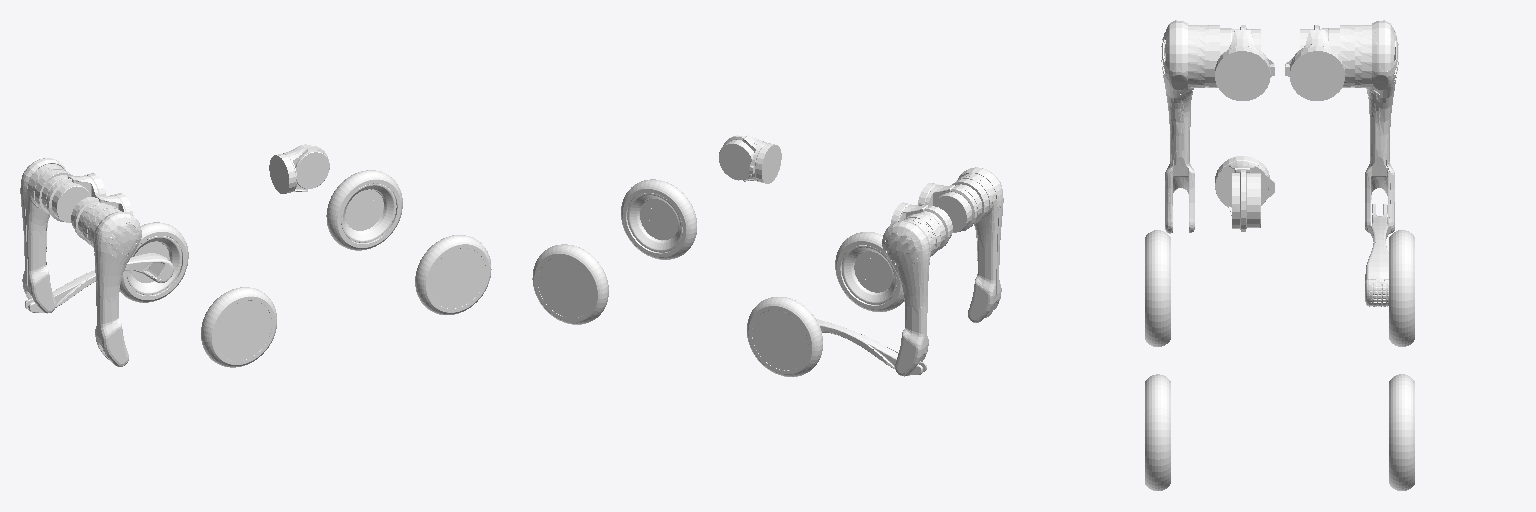
--- What the picture shows (computed from the rendered views, not written in the file) ---
Views: 3 orthographic renders of the robot side by side, from view 1: azimuth 30°, elevation 25°; view 2: azimuth 150°, elevation 25°; view 3: azimuth 270°, elevation 25°.
Robot: b2w_description — 27 links, 26 joints (12 revolute, 4 continuous, 10 fixed); root link base; default pose: joints at zero except 4 at the middle of their limits (FL_calf_joint = -1.62, FR_calf_joint = -1.62, RL_calf_joint = -1.62, RR_calf_joint = -1.62).
Visible links, largest first — view 1: RR_thigh, RR_foot, FL_foot, FR_foot, RL_thigh, RL_foot, FR_hip, RL_calf, RL_hip, RR_hip; view 2: RL_thigh, FL_foot, FR_foot, RL_foot, RR_thigh, RR_foot, FR_hip, RR_hip, RL_calf, RL_hip; view 3: RR_thigh, RL_thigh, FR_hip, RR_hip, RL_hip, RL_foot, RR_foot, FL_foot, FR_foot, RL_calf.
Link boxes in pixels (x1,y1,x2,y2): RR_thigh: (81, 204, 141, 366); RR_foot: (201, 287, 276, 367); FL_foot: (326, 170, 402, 250); FR_foot: (415, 235, 491, 314); RL_thigh: (20, 158, 72, 313); RL_foot: (120, 222, 188, 302); FR_hip: (269, 144, 329, 193); RL_calf: (25, 253, 173, 312); RL_hip: (46, 173, 105, 222); RR_hip: (71, 193, 133, 240); RL_thigh: (882, 213, 942, 376); FL_foot: (532, 244, 608, 324); FR_foot: (621, 179, 696, 259); RL_foot: (747, 297, 822, 376); RR_thigh: (952, 167, 1003, 322); RR_foot: (835, 232, 903, 311); FR_hip: (719, 135, 781, 183); RR_hip: (918, 183, 977, 232); RL_calf: (816, 319, 926, 375); RL_hip: (890, 202, 952, 249); RR_thigh: (1161, 20, 1231, 233); RL_thigh: (1328, 20, 1398, 233); FR_hip: (1215, 156, 1274, 231); RR_hip: (1215, 25, 1274, 100); RL_hip: (1285, 25, 1344, 100); RL_foot: (1389, 230, 1414, 346); RR_foot: (1145, 230, 1170, 346); FL_foot: (1389, 374, 1414, 490); FR_foot: (1145, 374, 1170, 490); RL_calf: (1365, 204, 1390, 306).
Bounding box of the posed robot: 1.19 × 0.5201 × 0.5124 m (x, y, z).
10 mesh visuals loaded from 17 distinct referenced files (10 Collada DAE); not drawn: 7 (reference not matched to a file when rendering).

The robot description file, URDF, robot "b2w_description":
<?xml version="1.0" encoding="utf-8"?>
<!-- This URDF was automatically created by SolidWorks to URDF Exporter! Originally created by Stephen Brawner ([email redacted])
     Commit Version: 1.6.0-4-g7f85cfe  Build Version: 1.6.7995.38578
     For more information, please see http://wiki.ros.org/sw_urdf_exporter -->
<robot name="b2w_description">
<material name="black">
    <color rgba="0.0 0.0 0.0 1.0"/>
  </material>
  <material name="blue">
    <color rgba="0.0 0.0 0.8 1.0"/>
  </material>
  <material name="green">
    <color rgba="0.0 0.8 0.0 1.0"/>
  </material>
  <material name="grey">
    <color rgba="0.2 0.2 0.2 1.0"/>
  </material>
  <material name="silver">
    <color rgba="0.913725490196 0.913725490196 0.847058823529 1.0"/>
  </material>
  <material name="orange">
    <color rgba="1.0 0.423529411765 0.0392156862745 1.0"/>
  </material>
  <material name="brown">
    <color rgba="0.870588235294 0.811764705882 0.764705882353 1.0"/>
  </material>
  <material name="red">
    <color rgba="0.8 0.0 0.0 1.0"/>
  </material>
  <material name="white">
    <color rgba="1.0 1.0 1.0 1.0"/>
  </material>
  <!-- ros_control plugin -->
  <gazebo>
    <plugin filename="libgazebo_ros_control.so" name="gazebo_ros_control">
      <robotNamespace>/b2w_gazebo</robotNamespace>
      <robotSimType>gazebo_ros_control/DefaultRobotHWSim</robotSimType>
    </plugin>
  </gazebo>
  <!-- Show the trajectory of trunk center. -->
  <!-- <gazebo>
    <plugin filename="libLinkPlot3DPlugin.so" name="3dplotTrunk">
      <frequency>10</frequency>
      <plot>
        <link>base</link>
        <pose>0 0 0 0 0 0</pose>
        <material>Gazebo/Yellow</material>
      </plot>
    </plugin>
  </gazebo> -->
  <!-- Show the trajectory of foot. You can add another trajectory about another foot. -->
  <!-- <gazebo>
    <plugin filename="libLinkPlot3DPlugin.so" name="3dplot">
      <frequency>1000</frequency>
      <plot>
        <link>FR_calf</link>
        <pose>0 0 -0.2 0 0 0</pose>
        <material>Gazebo/Yellow</material>
      </plot>
    </plugin>
  </gazebo> -->
  <gazebo>
    <plugin filename="libgazebo_ros_force.so" name="gazebo_ros_force">
      <bodyName>trunk</bodyName>
      <topicName>/apply_force/trunk</topicName>
    </plugin>
  </gazebo>
  <gazebo reference="imu_link">
    <gravity>true</gravity>
    <sensor name="imu_sensor" type="imu">
      <always_on>true</always_on>
      <update_rate>1000</update_rate>
      <visualize>true</visualize>
      <topic>__default_topic__</topic>
      <plugin filename="libgazebo_ros_imu_sensor.so" name="imu_plugin">
        <topicName>trunk_imu</topicName>
        <bodyName>imu_link</bodyName>
        <updateRateHZ>1000.0</updateRateHZ>
        <gaussianNoise>0.0</gaussianNoise>
        <xyzOffset>0 0 0</xyzOffset>
        <rpyOffset>0 0 0</rpyOffset>
        <frameName>imu_link</frameName>
      </plugin>
      <pose>0 0 0 0 0 0</pose>
    </sensor>
  </gazebo>

  <gazebo reference="base">
    <material>Gazebo/Green</material>
    <turnGravityOff>false</turnGravityOff>
  </gazebo>
  <gazebo reference="trunk">
    <mu1>0.2</mu1>
    <mu2>0.2</mu2>
    <kp value="1000000.0"/>
    <kd value="1.0"/>
  </gazebo>
  <gazebo reference="imu_link">
    <mu1>0.2</mu1>
    <mu2>0.2</mu2>
    <material>Gazebo/Red</material>
  </gazebo>
  <!-- FL leg -->
  <gazebo reference="FL_hip">
    <mu1>0.2</mu1>
    <mu2>0.2</mu2>
    <material>Gazebo/DarkGrey</material>
  </gazebo>
  <gazebo reference="FL_thigh">
    <mu1>0.2</mu1>
    <mu2>0.2</mu2>
    <self_collide>1</self_collide>
    <material>Gazebo/DarkGrey</material>
    <kp value="1000000.0"/>
    <kd value="1.0"/>
  </gazebo>
  <gazebo reference="FL_calf">
    <mu1>0.2</mu1>
    <mu2>0.2</mu2>
    <self_collide>1</self_collide>
  </gazebo>
  <gazebo reference="FL_foot">
    <mu1>0.6</mu1>
    <mu2>0.6</mu2>
    <self_collide>1</self_collide>
    <material>Gazebo/DarkGrey</material>
    <kp value="1000000.0"/>
    <kd value="1.0"/>
  </gazebo>
  <!-- FR leg -->
  <gazebo reference="FR_hip">
    <mu1>0.2</mu1>
    <mu2>0.2</mu2>
    <material>Gazebo/DarkGrey</material>
  </gazebo>
  <gazebo reference="FR_thigh">
    <mu1>0.2</mu1>
    <mu2>0.2</mu2>
    <self_collide>1</self_collide>
    <material>Gazebo/DarkGrey</material>
    <kp value="1000000.0"/>
    <kd value="1.0"/>
  </gazebo>
  <gazebo reference="FR_calf">
    <mu1>0.2</mu1>
    <mu2>0.2</mu2>
    <self_collide>1</self_collide>
  </gazebo>
  <gazebo reference="FR_foot">
    <mu1>0.6</mu1>
    <mu2>0.6</mu2>
    <self_collide>1</self_collide>
    <material>Gazebo/DarkGrey</material>
    <kp value="1000000.0"/>
    <kd value="1.0"/>
  </gazebo>
  <!-- RL leg -->
  <gazebo reference="RL_hip">
    <mu1>0.2</mu1>
    <mu2>0.2</mu2>
    <material>Gazebo/DarkGrey</material>
  </gazebo>
  <gazebo reference="RL_thigh">
    <mu1>0.2</mu1>
    <mu2>0.2</mu2>
    <self_collide>1</self_collide>
    <material>Gazebo/DarkGrey</material>
    <kp value="1000000.0"/>
    <kd value="1.0"/>
  </gazebo>
  <gazebo reference="RL_calf">
    <mu1>0.2</mu1>
    <mu2>0.2</mu2>
    <self_collide>1</self_collide>
  </gazebo>
  <gazebo reference="RL_foot">
    <mu1>0.6</mu1>
    <mu2>0.6</mu2>
    <self_collide>1</self_collide>
    <material>Gazebo/DarkGrey</material>
    <kp value="1000000.0"/>
    <kd value="1.0"/>
  </gazebo>
  <!-- RR leg -->
  <gazebo reference="RR_hip">
    <mu1>0.2</mu1>
    <mu2>0.2</mu2>
    <material>Gazebo/DarkGrey</material>
  </gazebo>
  <gazebo reference="RR_thigh">
    <mu1>0.2</mu1>
    <mu2>0.2</mu2>
    <self_collide>1</self_collide>
    <material>Gazebo/DarkGrey</material>
    <kp value="1000000.0"/>
    <kd value="1.0"/>
  </gazebo>
  <gazebo reference="RR_calf">
    <mu1>0.2</mu1>
    <mu2>0.2</mu2>
    <self_collide>1</self_collide>
  </gazebo>
  <gazebo reference="RR_foot">
    <mu1>0.6</mu1>
    <mu2>0.6</mu2>
    <self_collide>1</self_collide>
    <material>Gazebo/DarkGrey</material>
    <kp value="1000000.0"/>
    <kd value="1.0"/>
  </gazebo>
  <link name="base">
    <visual>
      <origin rpy="0 0 0" xyz="0 0 0"/>
      <geometry>
        <box size="0.001 0.001 0.001"/>
      </geometry>
    </visual>
  </link>
  <joint name="floating_base" type="fixed">
    <origin rpy="0 0 0" xyz="0 0 0"/>
    <parent link="base"/>
    <child link="trunk"/>
  </joint>
  <link name="trunk">
    <inertial>
      <origin xyz="0.000458 0.005261 0.000665" rpy="0 0 0" />
      <mass value="35.606" />
      <inertia ixx="0.27466" ixy="-0.000622" ixz="0.00315" iyy="1.0618" iyz="-0.00139" izz="1.1825" />
    </inertial>
    <visual>
      <origin xyz="0 0 0" rpy="0 0 0" />
      <geometry>
        <mesh filename="package://b2w_description/meshes/base_link.dae" />
      </geometry>
      <material name="">
        <color rgba="1 1 1 1" />
      </material>
    </visual>
    <collision>
      <origin xyz="0 0 0" rpy="0 0 0" />
      <geometry>
        <box size="0.5 0.28 0.15" />
      </geometry>
    </collision>
  </link>
  <link name="lidar_link">
    <inertial>
      <origin xyz="0.34218 0 0.17851" rpy="0 0 0" />
      <mass value="4.19E-15" />
      <inertia ixx="1.68E-27" ixy="-3.2E-45" ixz="7.68E-44" iyy="1.68E-27" iyz="-9.26E-47" izz="1.68E-27" />
    </inertial>
    <collision>
      <origin xyz="0 0 -0.02" rpy="0 0 0" />
      <geometry>
        <cylinder length="0.16" radius="0.076" />
        <!-- <mesh filename="package://b2_description/meshes/lidar_link.STL" /> -->
      </geometry>
    </collision>
  </link>
  <joint name="joint_lidar" type="fixed">
    <origin xyz="0.34218 0 0.17851" rpy="0 0 0" />
    <parent link="trunk" />
    <child link="lidar_link" />
    <axis xyz="0 0 0" />
  </joint>
  <link name="f_dc_link">
    <inertial>
      <origin xyz="3.47E-18 0 5.55E-17" rpy="0 0 0" />
      <mass value="4.19E-15" />
      <inertia ixx="1.68E-27" ixy="-9.81E-45" ixz="-2.54E-44" iyy="1.68E-27" iyz="0" izz="1.68E-27" />
    </inertial>
  </link>
  <joint name="joint_f_dc" type="fixed">
    <origin xyz="0.42161 0.025 0.061851" rpy="-2.3562 0 -1.5708" />
    <parent link="trunk" />
    <child link="f_dc_link" />
    <axis xyz="0 0 0" />
  </joint>
  <link name="r_dc_link">
    <inertial>
      <origin xyz="-7.46E-16 -3.33E-16 -1.11E-15" rpy="0 0 0" />
      <mass value="4.19E-15" />
      <inertia ixx="1.68E-27" ixy="-4.31E-44" ixz="2.48E-45" iyy="1.68E-27" iyz="0" izz="1.68E-27" />
    </inertial>
  </link>
  <joint name="joint_r_dc" type="fixed">
    <origin xyz="-0.42244 -0.025 0.038026" rpy="-2.3562 0 1.5708" />
    <parent link="trunk" />
    <child link="r_dc_link" />
    <axis xyz="0 0 0" />
  </joint>
  <link name="imu_link">
    <inertial>
      <origin xyz="-2.02E-17 1.73E-17 -1.39E-17" rpy="0 0 0" />
      <mass value="4.19E-15" />
      <inertia ixx="1.68E-27" ixy="1.84E-44" ixz="-7.35E-44" iyy="1.68E-27" iyz="-3.67E-44" izz="1.68E-27" />
    </inertial>
  </link>
  <joint name="joint_imu" type="fixed">
    <origin xyz="0 -0.02341 0.04927" rpy="0 0 0" />
    <parent link="trunk" />
    <child link="imu_link" />
    <axis xyz="0 0 0" />
  </joint>
  <link name="head_Link">
    <inertial>
      <origin xyz="0.33989 -0.000168 0.12029" rpy="0 0 0" />
      <mass value="3.6885" />
      <inertia ixx="0.026455" ixy="3.15E-05" ixz="0.00166" iyy="0.029221" iyz="-3.27E-05" izz="0.010918" />
    </inertial>
    <collision>
      <origin xyz="0.41 0 0.005" rpy="0 0 0" />
      <geometry>
        <box size="0.04 0.12 0.14" />
      </geometry>
    </collision>
  </link>
  <joint name="joint_head" type="fixed">
    <origin xyz="0 0 0" rpy="0 0 0" />
    <parent link="trunk" />
    <child link="head_Link" />
    <axis xyz="0 0 0" />
  </joint>
  <link name="tail_link">
    <inertial>
      <origin xyz="-0.37448 0.000488 0.006495" rpy="0 0 0" />
      <mass value="0.795" />
      <inertia ixx="0.0028118" ixy="1.95E-05" ixz="-7.87E-06" iyy="0.0047506" iyz="-1.57E-05" izz="0.0029154" />
    </inertial>
    <collision>
      <origin xyz="-0.405 0 0.005" rpy="0 0 0" />
      <geometry>
        <box size="0.025 0.12 0.14" />
      </geometry>
    </collision>
  </link>
  <joint name="joint_tail" type="fixed">
    <origin xyz="0 0 0" rpy="0 0 0" />
    <parent link="trunk" />
    <child link="tail_link" />
    <axis xyz="0 0 0" />
  </joint>
  <link name="FL_hip">
    <inertial>
      <origin xyz="-0.003841 -0.009068 0" rpy="0 0 0" />
      <mass value="2.673" />
      <inertia ixx="0.0033188" ixy="7.16E-05" ixz="-3.77E-07" iyy="0.0048743" iyz="4E-09" izz="0.0037087" />
    </inertial>
    <visual>
      <origin xyz="0 0 0" rpy="0 0 0" />
      <geometry>
        <mesh filename="package://b2w_description/meshes/FL_hip.dae" />
      </geometry>
      <material name="">
        <color rgba="1 1 1 1" />
      </material>
    </visual>
    <collision>
      <origin xyz="0 0.12 0" rpy="1.5707963267948966 0 0" />
      <geometry>
        <cylinder length="0.05" radius="0.07" />
      </geometry>
    </collision>
  </link>
  <joint name="FL_hip_joint" type="revolute">
    <origin xyz="0.3285 0.072 0" rpy="0 0 0" />
    <parent link="trunk" />
    <child link="FL_hip" />
    <axis xyz="1 0 0" />
    <limit lower="-0.87" upper="0.87" effort="200" velocity="23" />
  </joint>
  <link name="FL_thigh">
    <inertial>
      <origin xyz="-0.006279 -0.032049 -0.057835" rpy="0 0 0" />
      <mass value="4.536" />
      <inertia ixx="0.062299" ixy="0.00087781" ixz="-0.0036475" iyy="0.061399" iyz="0.0083537" izz="0.0081997" />
    </inertial>
    <visual>
      <origin xyz="0 0 0" rpy="0 0 0" />
      <geometry>
        <mesh filename="package://b2w_description/meshes/FL_thigh.dae" />
      </geometry>
      <material name="">
        <color rgba="1 1 1 1" />
      </material>
    </visual>
    <collision>
      <origin xyz="-0.025 0 -0.16" rpy="0 1.57 0" />
      <geometry>
        <box size="0.32 0.0445 0.054" />
      </geometry>
    </collision>
  </link>
  <joint name="FL_thigh_joint" type="revolute">
    <origin xyz="0 0.11973 0" rpy="0 0 0" />
    <parent link="FL_hip" />
    <child link="FL_thigh" />
    <axis xyz="0 1 0" />
    <limit lower="-0.94" upper="4.69" effort="200" velocity="23" />
  </joint>
  <link name="FL_calf">
    <inertial>
      <origin xyz="0.005278 0.017301 -0.29778" rpy="0 0 0" />
      <mass value="2.2906" />
      <inertia ixx="0.029283" ixy="0.000221" ixz="-0.001064" iyy="0.030868" iyz="0.002093" izz="0.00326" />
    </inertial>
    <visual>
      <origin xyz="0 0 0" rpy="0 0 0" />
      <geometry>
        <mesh filename="package://b2w_description/meshes/FL_calf.dae" />
      </geometry>
      <material name="">
        <color rgba="1 1 1 1" />
      </material>
    </visual>
    <collision>
      <origin xyz="0 0 0" rpy="0 0 0" />
      <geometry>
        <mesh filename="package://b2w_description/meshes/FL_calf.dae" />
      </geometry>
    </collision>
  </link>
  <joint name="FL_calf_joint" type="revolute">
    <origin xyz="0 -8.8203E-05 -0.35" rpy="0 0 0" />
    <parent link="FL_thigh" />
    <child link="FL_calf" />
    <axis xyz="0 1 0" />
    <limit lower="-2.82" upper="-0.43" effort="320" velocity="14" />
  </joint>
  <link name="FL_foot">
    <inertial>
      <origin xyz="-0.000991 0.051053 -0.00113" rpy="0 0 0" />
      <mass value="1.083" />
      <inertia ixx="0.004121" ixy="6E-06" ixz="-4.8E-05" iyy="0.007776" iyz="7E-06" izz="0.004108" />
    </inertial>
    <visual>
      <origin xyz="0 0 0" rpy="0 0 0" />
      <geometry>
        <mesh filename="package://b2w_description/meshes/FL_foot.dae" />
      </geometry>
      <material name="">
        <color rgba="1 1 1 1" />
      </material>
    </visual>
    <collision>
      <origin xyz="0 0 0" rpy="0 0 0" />
      <geometry>
        <mesh filename="package://b2w_description/meshes/FL_foot.dae" />
      </geometry>
    </collision>
  </link>
  <joint name="FL_foot_joint" type="continuous">
    <origin xyz="0 0 -0.35" rpy="0 0 0" />
    <parent link="FL_calf" />
    <child link="FL_foot" />
    <axis xyz="0 1 0" />
    <limit effort="20" velocity="50" />
  </joint>
  <link name="FR_hip">
    <inertial>
      <origin xyz="-0.003841 0.009068 0" rpy="0 0 0" />
      <mass value="2.673" />
      <inertia ixx="0.003318772" ixy="-7.16E-05" ixz="-3.77E-07" iyy="0.004874327" iyz="-4E-09" izz="0.003708731" />
    </inertial>
    <visual>
      <origin xyz="0 0 0" rpy="0 0 0" />
      <geometry>
        <mesh filename="package://b2w_description/meshes/FR_hip.dae" />
      </geometry>
      <material name="">
        <color rgba="1 1 1 1" />
      </material>
    </visual>
    <collision>
      <origin xyz="0 -0.12 0" rpy="1.5707963267948966 0 0" />
      <geometry>
        <cylinder length="0.05" radius="0.07" />
      </geometry>
    </collision>
  </link>
  <joint name="FR_hip_joint" type="revolute">
    <origin xyz="0.3285 -0.072 0" rpy="0 0 0" />
    <parent link="trunk" />
    <child link="FR_hip" />
    <axis xyz="1 0 0" />
    <limit lower="-0.87" upper="0.87" effort="200" velocity="23" />
  </joint>
  <link name="FR_thigh">
    <inertial>
      <origin xyz="-0.006279 0.032049 -0.057835" rpy="0 0 0" />
      <mass value="4.536" />
      <inertia ixx="0.06229908" ixy="-0.000877808" ixz="-0.003647464" iyy="0.06139927" iyz="-0.008353671" izz="0.008199745" />
    </inertial>
    <visual>
      <origin xyz="0 0 0" rpy="0 0 0" />
      <geometry>
        <mesh filename="package://b2w_description/meshes/FR_thigh.dae" />
      </geometry>
      <material name="">
        <color rgba="1 1 1 1" />
      </material>
    </visual>
    <collision>
      <origin rpy="0 1.57 0" xyz="-0.03 0 -0.2"/>
      <geometry>
        <box size="0.25 0.028 0.04"/>
      </geometry>
    </collision>
  </link>
  <joint name="FR_thigh_joint" type="revolute">
    <origin xyz="0 -0.11973 0" rpy="0 0 0" />
    <parent link="FR_hip" />
    <child link="FR_thigh" />
    <axis xyz="0 1 0" />
    <limit lower="-0.94" upper="4.69" effort="200" velocity="23" />
  </joint>
  <link name="FR_calf">
    <inertial>
      <origin xyz="0.005278 -0.017301 -0.297775" rpy="0 0 0" />
      <mass value="2.290557" />
      <inertia ixx="0.029283" ixy="-0.000221" ixz="-0.001064" iyy="0.030868" iyz="-0.002093" izz="0.00326" />
    </inertial>
    <visual>
      <origin xyz="0 0 0" rpy="0 0 0" />
      <geometry>
        <mesh filename="package://b2w_description/meshes/FR_calf.dae" />
      </geometry>
      <material name="">
        <color rgba="1 1 1 1" />
      </material>
    </visual>
    <collision>
      <origin xyz="0 0 0" rpy="0 0 0" />
      <geometry>
        <mesh filename="package://b2w_description/meshes/FR_calf.dae" />
      </geometry>
    </collision>
  </link>
  <joint name="FR_calf_joint" type="revolute">
    <origin xyz="0 8.8205E-05 -0.35" rpy="0 0 0" />
    <parent link="FR_thigh" />
    <child link="FR_calf" />
    <axis xyz="0 1 0" />
    <limit lower="-2.82" upper="-0.43" effort="320" velocity="14" />
  </joint>
  <link name="FR_foot">
    <inertial>
      <origin xyz="-0.000991 -0.051053 -0.00113" rpy="0 0 0" />
      <mass value="1.083" />
      <inertia ixx="0.004121" ixy="-6E-06" ixz="-4.8E-05" iyy="0.007776" iyz="-7E-06" izz="0.004108" />
    </inertial>
    <visual>
      <origin xyz="0 0 0" rpy="0 0 0" />
      <geometry>
        <mesh filename="package://b2w_description/meshes/FR_foot.dae" />
      </geometry>
      <material name="">
        <color rgba="1 1 1 1" />
      </material>
    </visual>
    <collision>
      <origin xyz="0 0 0" rpy="0 0 0" />
      <geometry>
        <mesh filename="package://b2w_description/meshes/FR_foot.dae" />
      </geometry>
    </collision>
  </link>
  <joint name="FR_foot_joint" type="continuous">
    <origin xyz="0 -0.001 -0.35" rpy="0 0 0" />
    <parent link="FR_calf" />
    <child link="FR_foot" />
    <axis xyz="0 1 0" />
    <limit effort="20" velocity="50" />
  </joint>
  <link name="RL_hip">
    <inertial>
      <origin xyz="0.003841 -0.009068 0" rpy="0 0 0" />
      <mass value="2.673" />
      <inertia ixx="0.0033188" ixy="-7.16E-05" ixz="3.77E-07" iyy="0.0048743" iyz="4E-09" izz="0.0037087" />
    </inertial>
    <visual>
      <origin xyz="0 0 0" rpy="0 0 0" />
      <geometry>
        <mesh filename="package://b2w_description/meshes/RL_hip.dae" />
      </geometry>
      <material name="">
        <color rgba="1 1 1 1" />
      </material>
    </visual>
    <collision>
      <origin xyz="0 0.12 0" rpy="1.5707963267948966 0 0" />
      <geometry>
        <cylinder length="0.05" radius="0.07" />
      </geometry>
    </collision>
  </link>
  <joint name="RL_hip_joint" type="revolute">
    <origin xyz="-0.3285 0.072 0" rpy="0 0 0" />
    <parent link="trunk" />
    <child link="RL_hip" />
    <axis xyz="1 0 0" />
    <limit lower="-0.87" upper="0.87" effort="200" velocity="23" />
  </joint>
  <link name="RL_thigh">
    <inertial>
      <origin xyz="-0.006279 -0.032049 -0.057835" rpy="0 0 0" />
      <mass value="4.536" />
      <inertia ixx="0.06229908" ixy="0.000877808" ixz="-0.003647464" iyy="0.06139927" iyz="0.008353671" izz="0.008199745" />
    </inertial>
    <visual>
      <origin xyz="0 0 0" rpy="0 0 0" />
      <geometry>
        <mesh filename="package://b2w_description/meshes/RL_thigh.dae" />
      </geometry>
      <material name="">
        <color rgba="1 1 1 1" />
      </material>
    </visual>
    <collision>
      <origin rpy="0 1.57 0" xyz="-0.03 0 -0.2"/>
      <geometry>
        <box size="0.25 0.028 0.04"/>
      </geometry>
    </collision>
  </link>
  <joint name="RL_thigh_joint" type="revolute">
    <origin xyz="0 0.11973 0" rpy="0 0 0" />
    <parent link="RL_hip" />
    <child link="RL_thigh" />
    <axis xyz="0 1 0" />
    <limit lower="-0.94" upper="4.69" effort="200" velocity="23" />
  </joint>
  <link name="RL_calf">
    <inertial>
      <origin xyz="0.005278 0.017301 -0.29778" rpy="0 0 0" />
      <mass value="2.2906" />
      <inertia ixx="0.029283" ixy="0.000221" ixz="-0.001064" iyy="0.030868" iyz="0.002093" izz="0.00326" />
    </inertial>
    <visual>
      <origin xyz="0 0 0" rpy="0 0 0" />
      <geometry>
        <mesh filename="package://b2w_description/meshes/RL_calf.dae" />
      </geometry>
      <material name="">
        <color rgba="1 1 1 1" />
      </material>
    </visual>
    <collision>
      <origin xyz="0 0 0" rpy="0 0 0" />
      <geometry>
        <mesh filename="package://b2w_description/meshes/RL_calf.dae" />
      </geometry>
    </collision>
  </link>
  <joint name="RL_calf_joint" type="revolute">
    <origin xyz="0 -8.8205E-05 -0.35" rpy="0 0 0" />
    <parent link="RL_thigh" />
    <child link="RL_calf" />
    <axis xyz="0 1 0" />
    <limit lower="-2.82" upper="-0.43" effort="320" velocity="14" />
  </joint>
  <link name="RL_foot">
    <inertial>
      <origin xyz="-0.000991 0.051053 -0.00113" rpy="0 0 0" />
      <mass value="1.083" />
      <inertia ixx="0.004121" ixy="6E-06" ixz="-4.8E-05" iyy="0.007776" iyz="7E-06" izz="0.004108" />
    </inertial>
    <visual>
      <origin xyz="0 0 0" rpy="0 0 0" />
      <geometry>
        <mesh filename="package://b2w_description/meshes/RL_foot.dae" />
      </geometry>
      <material name="">
        <color rgba="1 1 1 1" />
      </material>
    </visual>
    <collision>
      <origin xyz="0 0 0" rpy="0 0 0" />
      <geometry>
        <mesh filename="package://b2w_description/meshes/RL_foot.dae" />
      </geometry>
    </collision>
  </link>
  <joint name="RL_foot_joint" type="continuous">
    <origin xyz="0 0 -0.35" rpy="0 0 0" />
    <parent link="RL_calf" />
    <child link="RL_foot" />
    <axis xyz="0 1 0" />
    <limit effort="20" velocity="50" />
  </joint>
  <link name="RR_hip">
    <inertial>
      <origin xyz="0.003841 0.009068 0" rpy="0 0 0" />
      <mass value="2.673" />
      <inertia ixx="0.0033188" ixy="7.16E-05" ixz="3.77E-07" iyy="0.0048743" iyz="-4E-09" izz="0.0037087" />
    </inertial>
    <visual>
      <origin xyz="0 0 0" rpy="0 0 0" />
      <geometry>
        <mesh filename="package://b2w_description/meshes/RR_hip.dae" />
      </geometry>
      <material name="">
        <color rgba="1 1 1 1" />
      </material>
    </visual>
    <collision>
      <origin xyz="0 -0.12 0" rpy="1.5707963267948966 0 0" />
      <geometry>
        <cylinder length="0.05" radius="0.07" />
      </geometry>
    </collision>
  </link>
  <joint name="RR_hip_joint" type="revolute">
    <origin xyz="-0.3285 -0.072 0" rpy="0 0 0" />
    <parent link="trunk" />
    <child link="RR_hip" />
    <axis xyz="1 0 0" />
    <limit lower="-0.87" upper="0.87" effort="200" velocity="23" />
  </joint>
  <link name="RR_thigh">
    <inertial>
      <origin xyz="-0.006279 0.032049 -0.057835" rpy="0 0 0" />
      <mass value="4.536" />
      <inertia ixx="0.062299" ixy="-0.00087781" ixz="-0.0036475" iyy="0.061399" iyz="-0.0083537" izz="0.0081997" />
    </inertial>
    <visual>
      <origin xyz="0 0 0" rpy="0 0 0" />
      <geometry>
        <mesh filename="package://b2w_description/meshes/RR_thigh.dae" />
      </geometry>
      <material name="">
        <color rgba="1 1 1 1" />
      </material>
    </visual>
    <collision>
      <origin rpy="0 1.57 0" xyz="-0.03 0 -0.2"/>
      <geometry>
        <box size="0.25 0.028 0.04"/>
      </geometry>
    </collision>
  </link>
  <joint name="RR_thigh_joint" type="revolute">
    <origin xyz="0 -0.11973 0" rpy="0 0 0" />
    <parent link="RR_hip" />
    <child link="RR_thigh" />
    <axis xyz="0 1 0" />
    <limit lower="-0.94" upper="4.69" effort="200" velocity="23" />
  </joint>
  <link name="RR_calf">
    <inertial>
      <origin xyz="0.005278 -0.017301 -0.29778" rpy="0 0 0" />
      <mass value="2.2906" />
      <inertia ixx="0.029283" ixy="-0.000221" ixz="-0.001064" iyy="0.030868" iyz="-0.002093" izz="0.00326" />
    </inertial>
    <visual>
      <origin xyz="0 0 0" rpy="0 0 0" />
      <geometry>
        <mesh filename="package://b2w_description/meshes/RR_calf.dae" />
      </geometry>
      <material name="">
        <color rgba="1 1 1 1" />
      </material>
    </visual>
    <collision>
      <origin xyz="0 0 0" rpy="0 0 0" />
      <geometry>
        <mesh filename="package://b2w_description/meshes/RR_calf.dae" />
      </geometry>
    </collision>
  </link>
  <joint name="RR_calf_joint" type="revolute">
    <origin xyz="0 8.8205E-05 -0.35" rpy="0 0 0" />
    <parent link="RR_thigh" />
    <child link="RR_calf" />
    <axis xyz="0 1 0" />
    <limit lower="-2.82" upper="-0.43" effort="320" velocity="14" />
  </joint>
  <link name="RR_foot">
    <inertial>
      <origin xyz="-0.000991 -0.051053 -0.00113" rpy="0 0 0" />
      <mass value="1.083" />
      <inertia ixx="0.004121" ixy="-6E-06" ixz="-4.8E-05" iyy="0.007776" iyz="-7E-06" izz="0.004108" />
    </inertial>
    <visual>
      <origin xyz="0 0 0" rpy="0 0 0" />
      <geometry>
        <mesh filename="package://b2w_description/meshes/RR_foot.dae" />
      </geometry>
      <material name="">
        <color rgba="1 1 1 1" />
      </material>
    </visual>
    <collision>
      <origin xyz="0 0 0" rpy="0 0 0" />
      <geometry>
        <mesh filename="package://b2w_description/meshes/RR_foot.dae" />
      </geometry>
    </collision>
  </link>
  <joint name="RR_foot_joint" type="continuous">
    <origin xyz="0 -0.001 -0.35" rpy="0 0 0" />
    <parent link="RR_calf" />
    <child link="RR_foot" />
    <axis xyz="0 1 0" />
    <limit effort="20" velocity="50" />
  </joint>
  <link name="f_oc_link">
    <inertial>
      <origin xyz="-3.39E-15 1.46E-16 -6.11E-16" rpy="0 0 0" />
      <mass value="4.19E-15" />
      <inertia ixx="1.68E-27" ixy="-3.89E-44" ixz="5.04E-44" iyy="1.68E-27" iyz="2.81E-45" izz="1.68E-27" />
    </inertial>
  </link>
  <joint name="f_oc_link" type="fixed">
    <origin xyz="0.3993 0 -0.01576" rpy="-1.5708 0 -1.5708" />
    <parent link="trunk" />
    <child link="f_oc_link" />
    <axis xyz="0 0 0" />
  </joint>
  <link name="logo_link">
    <inertial>
      <origin xyz="0 -2.3E-23 0" rpy="0 0 0" />
      <mass value="4.19E-15" />
      <inertia ixx="1.68E-27" ixy="0" ixz="0" iyy="1.68E-27" iyz="0" izz="1.68E-27" />
    </inertial>
  </link>
  <joint name="joint_logo" type="fixed">
    <origin xyz="0 0 0" rpy="0 0 0" />
    <parent link="trunk" />
    <child link="logo_link" />
    <axis xyz="0 0 0" />
  </joint>
  <link name="r_oc_ink">
    <inertial>
      <origin xyz="-0.39143 1.52E-07 -0.011961" rpy="0 0 0" />
      <mass value="4.19E-12" />
      <inertia ixx="1.68E-22" ixy="9.03E-39" ixz="0" iyy="1.68E-22" iyz="-1.2E-38" izz="1.68E-22" />
    </inertial>
  </link>
  <joint name="joint_r_oc" type="fixed">
    <origin xyz="-0.39143 0 -0.026131" rpy="-1.5708 0 1.5708" />
    <parent link="trunk" />
    <child link="r_oc_ink" />
    <axis xyz="0 0 0" />
  </joint>

  <transmission name="FL_hip_tran">
    <type>transmission_interface/SimpleTransmission</type>
    <joint name="FL_hip_joint">
      <hardwareInterface>hardware_interface/EffortJointInterface</hardwareInterface>
    </joint>
    <actuator name="FL_hip_motor">
      <hardwareInterface>hardware_interface/EffortJointInterface</hardwareInterface>
      <mechanicalReduction>1</mechanicalReduction>
    </actuator>
  </transmission>
  <transmission name="FL_thigh_tran">
    <type>transmission_interface/SimpleTransmission</type>
    <joint name="FL_thigh_joint">
      <hardwareInterface>hardware_interface/EffortJointInterface</hardwareInterface>
    </joint>
    <actuator name="FL_thigh_motor">
      <hardwareInterface>hardware_interface/EffortJointInterface</hardwareInterface>
      <mechanicalReduction>1</mechanicalReduction>
    </actuator>
  </transmission>
  <transmission name="FL_calf_tran">
    <type>transmission_interface/SimpleTransmission</type>
    <joint name="FL_calf_joint">
      <hardwareInterface>hardware_interface/EffortJointInterface</hardwareInterface>
    </joint>
    <actuator name="FL_calf_motor">
      <hardwareInterface>hardware_interface/EffortJointInterface</hardwareInterface>
      <mechanicalReduction>1</mechanicalReduction>
    </actuator>
  </transmission>
  <transmission name="FL_foot_tran">
    <type>transmission_interface/SimpleTransmission</type>
    <joint name="FL_foot_joint">
      <hardwareInterface>hardware_interface/EffortJointInterface</hardwareInterface>
    </joint>
    <actuator name="FL_foot_motor">
      <hardwareInterface>hardware_interface/EffortJointInterface</hardwareInterface>
      <mechanicalReduction>1</mechanicalReduction>
    </actuator>
  </transmission>

  <transmission name="FR_hip_tran">
    <type>transmission_interface/SimpleTransmission</type>
    <joint name="FR_hip_joint">
      <hardwareInterface>hardware_interface/EffortJointInterface</hardwareInterface>
    </joint>
    <actuator name="FR_hip_motor">
      <hardwareInterface>hardware_interface/EffortJointInterface</hardwareInterface>
      <mechanicalReduction>1</mechanicalReduction>
    </actuator>
  </transmission>
  <transmission name="FR_thigh_tran">
    <type>transmission_interface/SimpleTransmission</type>
    <joint name="FR_thigh_joint">
      <hardwareInterface>hardware_interface/EffortJointInterface</hardwareInterface>
    </joint>
    <actuator name="FR_thigh_motor">
      <hardwareInterface>hardware_interface/EffortJointInterface</hardwareInterface>
      <mechanicalReduction>1</mechanicalReduction>
    </actuator>
  </transmission>
  <transmission name="FR_calf_tran">
    <type>transmission_interface/SimpleTransmission</type>
    <joint name="FR_calf_joint">
      <hardwareInterface>hardware_interface/EffortJointInterface</hardwareInterface>
    </joint>
    <actuator name="FR_calf_motor">
      <hardwareInterface>hardware_interface/EffortJointInterface</hardwareInterface>
      <mechanicalReduction>1</mechanicalReduction>
    </actuator>
  </transmission>
  <transmission name="FR_foot_tran">
    <type>transmission_interface/SimpleTransmission</type>
    <joint name="FR_foot_joint">
      <hardwareInterface>hardware_interface/EffortJointInterface</hardwareInterface>
    </joint>
    <actuator name="FR_foot_motor">
      <hardwareInterface>hardware_interface/EffortJointInterface</hardwareInterface>
      <mechanicalReduction>1</mechanicalReduction>
    </actuator>
  </transmission>

  <transmission name="RL_hip_tran">
    <type>transmission_interface/SimpleTransmission</type>
    <joint name="RL_hip_joint">
      <hardwareInterface>hardware_interface/EffortJointInterface</hardwareInterface>
    </joint>
    <actuator name="RL_hip_motor">
      <hardwareInterface>hardware_interface/EffortJointInterface</hardwareInterface>
      <mechanicalReduction>1</mechanicalReduction>
    </actuator>
  </transmission>
  <transmission name="RL_thigh_tran">
    <type>transmission_interface/SimpleTransmission</type>
    <joint name="RL_thigh_joint">
      <hardwareInterface>hardware_interface/EffortJointInterface</hardwareInterface>
    </joint>
    <actuator name="RL_thigh_motor">
      <hardwareInterface>hardware_interface/EffortJointInterface</hardwareInterface>
      <mechanicalReduction>1</mechanicalReduction>
    </actuator>
  </transmission>
  <transmission name="RL_calf_tran">
    <type>transmission_interface/SimpleTransmission</type>
    <joint name="RL_calf_joint">
      <hardwareInterface>hardware_interface/EffortJointInterface</hardwareInterface>
    </joint>
    <actuator name="RL_calf_motor">
      <hardwareInterface>hardware_interface/EffortJointInterface</hardwareInterface>
      <mechanicalReduction>1</mechanicalReduction>
    </actuator>
  </transmission>
  <transmission name="RL_foot_tran">
    <type>transmission_interface/SimpleTransmission</type>
    <joint name="RL_foot_joint">
      <hardwareInterface>hardware_interface/EffortJointInterface</hardwareInterface>
    </joint>
    <actuator name="RL_foot_motor">
      <hardwareInterface>hardware_interface/EffortJointInterface</hardwareInterface>
      <mechanicalReduction>1</mechanicalReduction>
    </actuator>
  </transmission>

  <transmission name="RR_hip_tran">
    <type>transmission_interface/SimpleTransmission</type>
    <joint name="RR_hip_joint">
      <hardwareInterface>hardware_interface/EffortJointInterface</hardwareInterface>
    </joint>
    <actuator name="RR_hip_motor">
      <hardwareInterface>hardware_interface/EffortJointInterface</hardwareInterface>
      <mechanicalReduction>1</mechanicalReduction>
    </actuator>
  </transmission>
  <transmission name="RR_thigh_tran">
    <type>transmission_interface/SimpleTransmission</type>
    <joint name="RR_thigh_joint">
      <hardwareInterface>hardware_interface/EffortJointInterface</hardwareInterface>
    </joint>
    <actuator name="RR_thigh_motor">
      <hardwareInterface>hardware_interface/EffortJointInterface</hardwareInterface>
      <mechanicalReduction>1</mechanicalReduction>
    </actuator>
  </transmission>
  <transmission name="RR_calf_tran">
    <type>transmission_interface/SimpleTransmission</type>
    <joint name="RR_calf_joint">
      <hardwareInterface>hardware_interface/EffortJointInterface</hardwareInterface>
    </joint>
    <actuator name="RR_calf_motor">
      <hardwareInterface>hardware_interface/EffortJointInterface</hardwareInterface>
      <mechanicalReduction>1</mechanicalReduction>
    </actuator>
  </transmission>
  <transmission name="RR_foot_tran">
    <type>transmission_interface/SimpleTransmission</type>
    <joint name="RR_foot_joint">
      <hardwareInterface>hardware_interface/EffortJointInterface</hardwareInterface>
    </joint>
    <actuator name="RR_foot_motor">
      <hardwareInterface>hardware_interface/EffortJointInterface</hardwareInterface>
      <mechanicalReduction>1</mechanicalReduction>
    </actuator>
  </transmission>
</robot>
